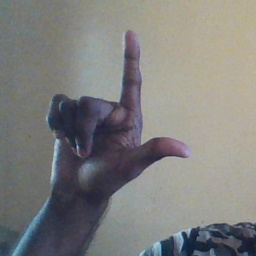L: (45, 28, 190, 200)
